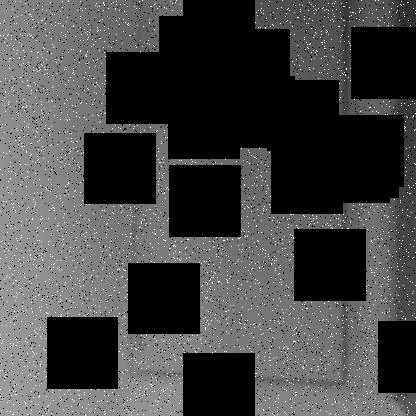Porte: (125, 0, 363, 395)
